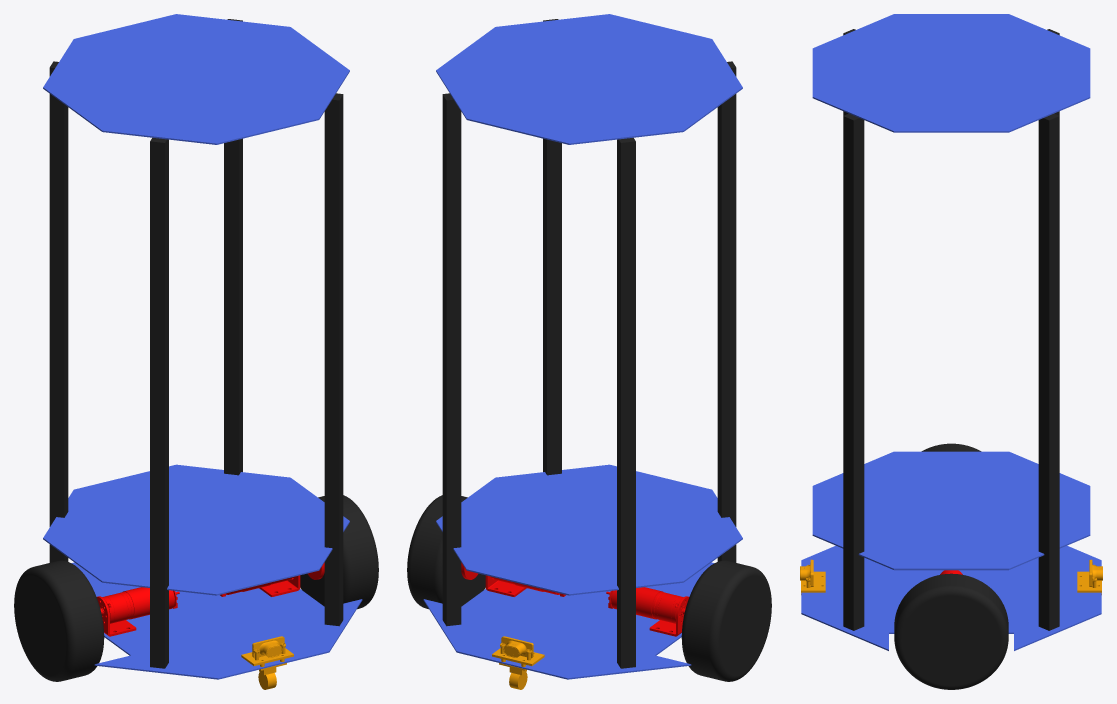
Rendered from nav.glb.
3 renders of one model, left to right at view 1: azimuth 30°, elevation 25°; view 2: azimuth 150°, elevation 25°; view 3: azimuth 270°, elevation 25°, orthographic. The views are drawn at different scales.
Visible parts, largest first — view 1: nav, drive-wheel-1, drive-wheel-0; view 2: nav, drive-wheel-1, drive-wheel-0; view 3: nav, drive-wheel-0.
Part boxes in pixels (bbox=[...]): nav: bbox=[43, 14, 362, 689]; drive-wheel-1: bbox=[14, 560, 104, 681]; drive-wheel-0: bbox=[300, 495, 378, 609]; nav: bbox=[423, 14, 742, 689]; drive-wheel-1: bbox=[681, 560, 771, 681]; drive-wheel-0: bbox=[407, 495, 485, 609]; nav: bbox=[800, 14, 1102, 650]; drive-wheel-0: bbox=[894, 573, 1008, 689].
Size of the model in its own units: 0.465 by 0.8022 by 0.4031.
